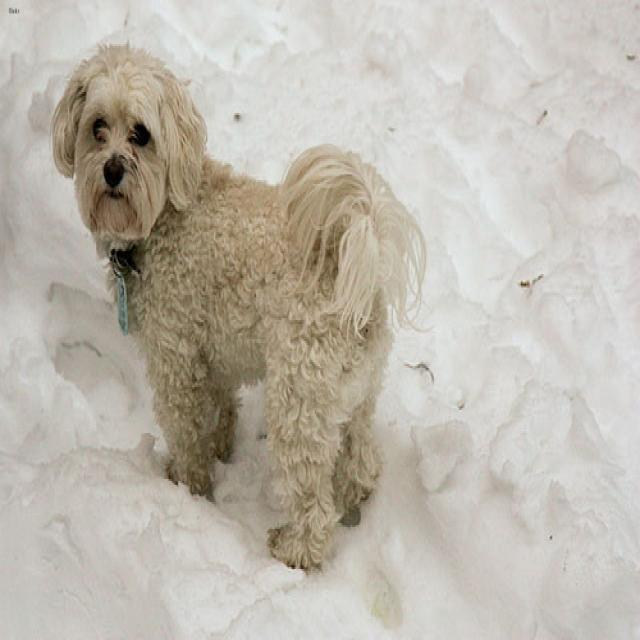dog-havanese: (41, 27, 431, 583)
